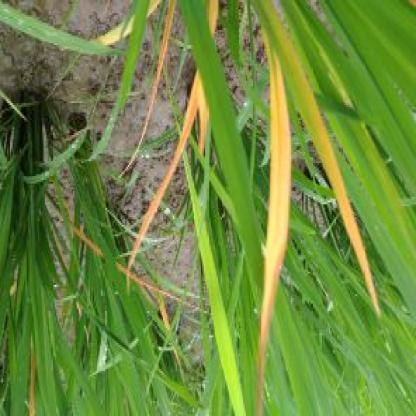Tungro: (254, 60, 294, 411)
